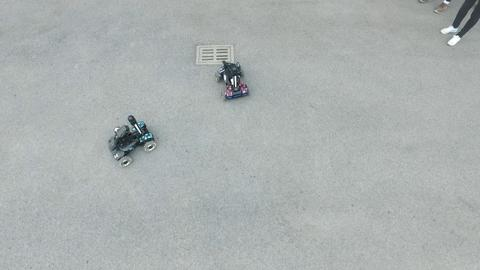chariot: (105, 118, 158, 165), (213, 60, 254, 103)
